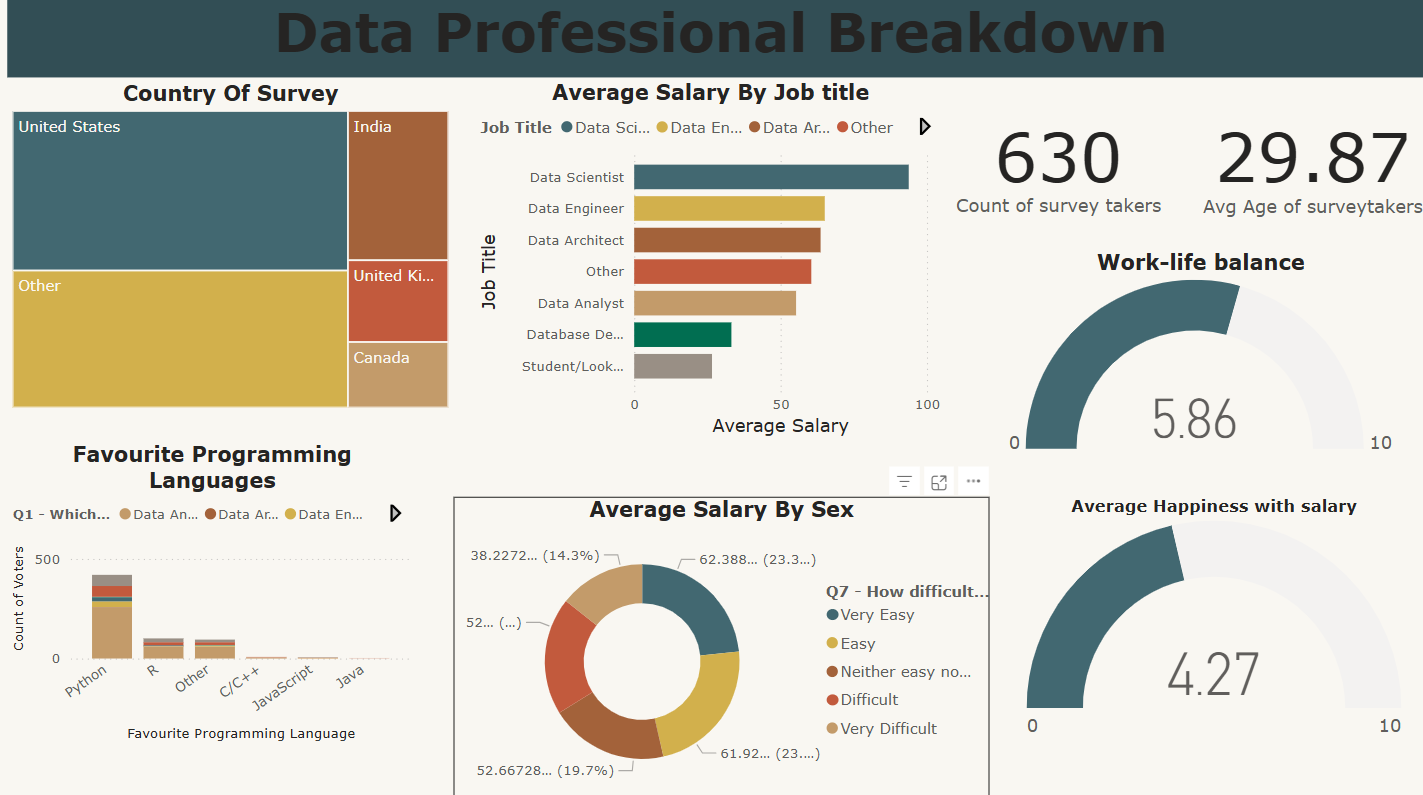

The dashboard page shown, as its layout file describes it:
{"tool":"powerbi","page":{"name":"Page 1","canvas":[1280,720],"ordinal":0},"visuals":[{"type":"textbox","box":[9.6,0,1270.7,75.5],"z":0},{"type":"card","fields":{"Values":["CountNonNull(Data Professional Survey.Unique ID)"]},"box":[846.7,78.2,199,148.2],"z":1},{"type":"card","fields":{"Values":["Avg(Data Professional Survey.Q10 - Current Age)"]},"box":[1064.8,76.8,215.4,150.9],"z":2},{"type":"barChart","title":"Average Salary By Job title","fields":{"Category":["Data Professional Survey.Q1 - Which Title Best Fits your Current Role?.1"],"Y":["Avg(Data Professional Survey.Average Salary)"],"Series":["Data Professional Survey.Q1 - Which Title Best Fits your Current Role?.1"]},"box":[426.8,76.8,419.9,322.5],"z":3},{"type":"columnChart","title":"Favourite Programming Languages","fields":{"Category":["Data Professional Survey.Q5 - Favorite Programming Language.1"],"Y":["CountNonNull(Data Professional Survey.Unique ID)"],"Series":["Data Professional Survey.Q1 - Which Title Best Fits your Current Role?.1"]},"box":[9.6,399.3,365,271.7],"z":4},{"type":"treemap","title":"Country Of Survey","fields":{"Group":["Data Professional Survey.Q11 - Which Country do you live in?.1"],"Values":["CountNonNull(Data Professional Survey.Q11 - Which Country do you live in?.1)"]},"box":[9.6,78.2,397.9,296.4],"z":5},{"type":"gauge","title":"Average Happiness with salary","fields":{"Y":["Avg(Data Professional Survey.Q6 - How Happy are you in your Current Position with the following? (Salary))"],"MinValue":["Min(Data Professional Survey.Q6 - How Happy are you in your Current Position with the following? (Salary))"],"MaxValue":["Max(Data Professional Survey.Q6 - How Happy are you in your Current Position with the following? (Salary))"]},"box":[889.2,447.3,391.1,223.7],"z":6},{"type":"gauge","title":"Work-life balance","fields":{"Y":["Avg(Data Professional Survey.Q6 - How Happy are you in your Current Position with the following? (Coworkers))"],"MinValue":["Min(Data Professional Survey.Q6 - How Happy are you in your Current Position with the following? (Coworkers))1"],"MaxValue":["Max(Data Professional Survey.Q6 - How Happy are you in your Current Position with the following? (Coworkers))2"]},"box":[879.6,227.8,387,188],"z":7},{"type":"donutChart","title":"Average Salary By Sex","fields":{"Category":["Data Professional Survey.Q7 - How difficult was it for you to break into Data?"],"Y":["Avg(Data Professional Survey.Average Salary)"]},"box":[407.5,448.7,477.5,271.7],"z":8}]}

Visuals, with their boxes in screenshot pixels (x1, y1, x2, y2), scaled from the page's 1280x720 canvas onto the 1423x795 screenshot:
textbox: crop(11, 0, 1422, 83)
card - CountNonNull(Data Professional Survey.Unique ID): crop(941, 86, 1163, 250)
card - Avg(Data Professional Survey.Q10 - Current Age): crop(1184, 85, 1422, 251)
"Average Salary By Job title" barChart: crop(474, 85, 941, 441)
"Favourite Programming Languages" columnChart: crop(11, 441, 416, 741)
"Country Of Survey" treemap: crop(11, 86, 453, 414)
"Average Happiness with salary" gauge: crop(989, 494, 1422, 741)
"Work-life balance" gauge: crop(978, 252, 1408, 459)
"Average Salary By Sex" donutChart: crop(453, 495, 984, 794)
